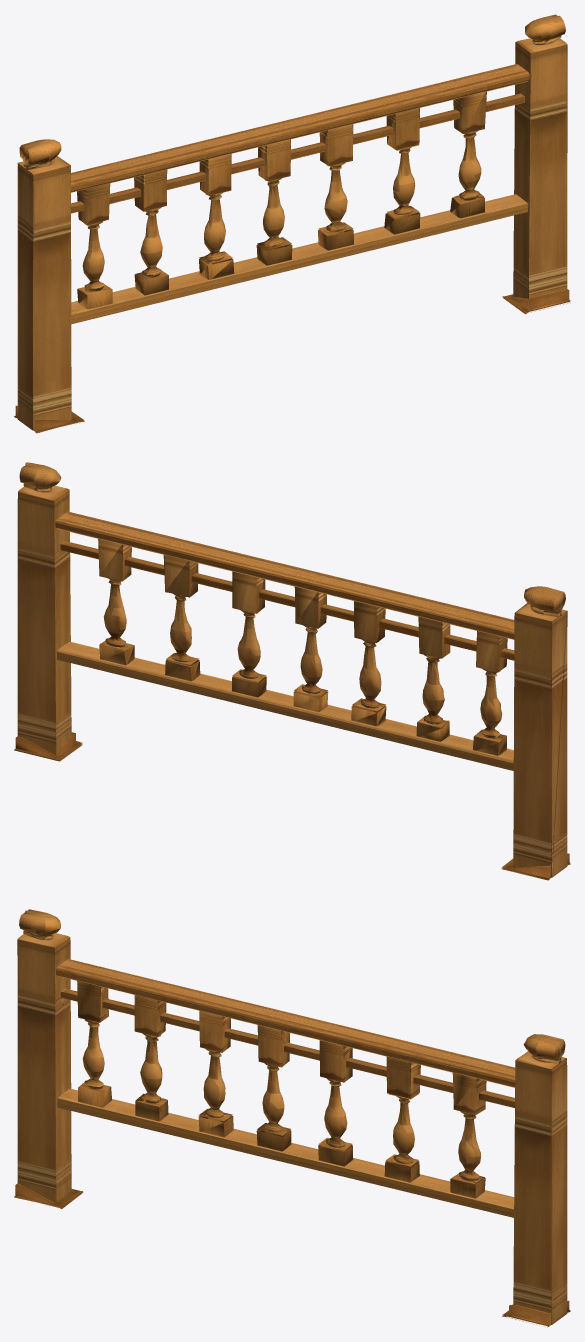
Rendered from railing.glb.
The picture shows the model from 3 angles, top to bottom: view 1: azimuth 30°, elevation 25°; view 2: azimuth 150°, elevation 25°; view 3: azimuth 330°, elevation 25°; orthographic projection.
Bounding box in the file's own units: 2 × 1 × 0.15.
Materials: 1 (1 with a texture image).
